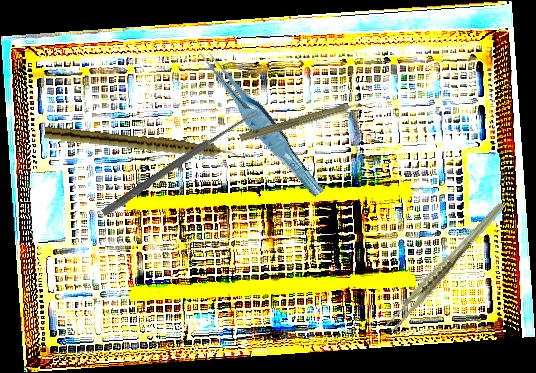Handpiece: (43, 125, 241, 164), (238, 96, 370, 147)
Surgical Spoon: (101, 107, 259, 218)
Tissue Forceps: (365, 200, 526, 335), (198, 40, 326, 206)
